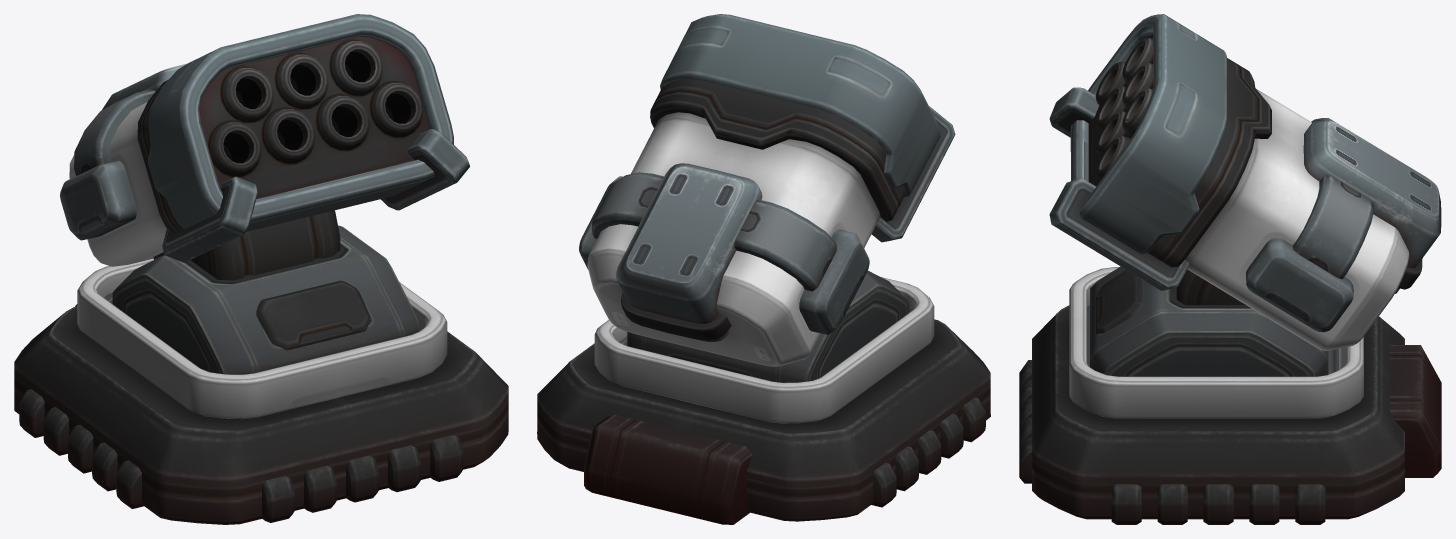
Rendered from lvl2.fbx.
The picture shows the model from 3 angles, left to right: view 1: azimuth 30°, elevation 25°; view 2: azimuth 150°, elevation 25°; view 3: azimuth 270°, elevation 25°; orthographic projection. The views are drawn at different scales.
Parts seen in each view (by area): view 1: lvl2_launcher_top1, lvl2_launcher_bot1, lvl2_launcher_mid; view 2: lvl2_launcher_top1, lvl2_launcher_bot1, lvl2_launcher_mid; view 3: lvl2_launcher_top1, lvl2_launcher_bot1, lvl2_launcher_mid.
Part boxes in pixels (left/top/right/bottom): lvl2_launcher_top1: left=60, top=14, right=469, bottom=266; lvl2_launcher_bot1: left=14, top=304, right=508, bottom=524; lvl2_launcher_mid: left=77, top=210, right=447, bottom=419; lvl2_launcher_top1: left=579, top=14, right=955, bottom=366; lvl2_launcher_bot1: left=537, top=319, right=990, bottom=524; lvl2_launcher_mid: left=594, top=270, right=934, bottom=423; lvl2_launcher_top1: left=1049, top=14, right=1441, bottom=350; lvl2_launcher_bot1: left=1019, top=305, right=1441, bottom=524; lvl2_launcher_mid: left=1069, top=266, right=1363, bottom=418.
Size of the model in its own units: 225 by 237 by 232.
